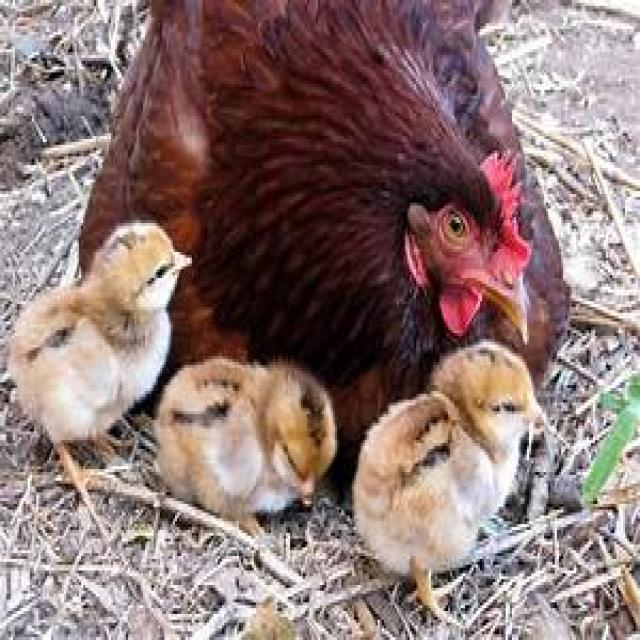hen: (79, 0, 548, 437)
